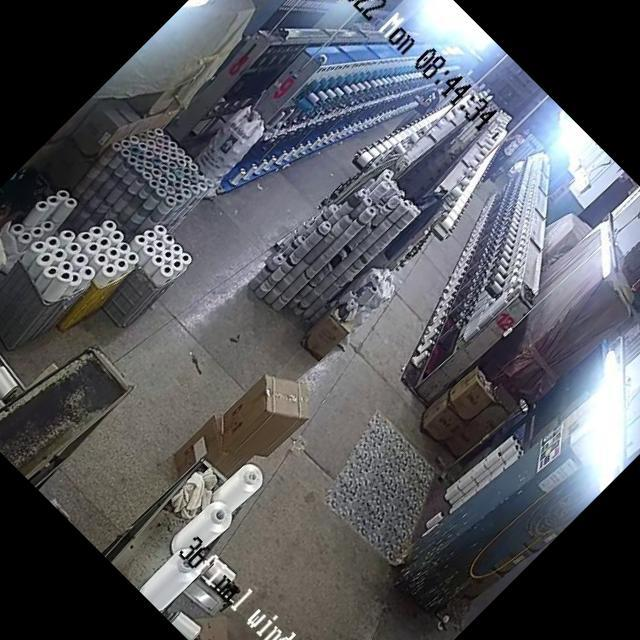person: (0, 183, 57, 373), (470, 119, 540, 188), (395, 85, 447, 136)
